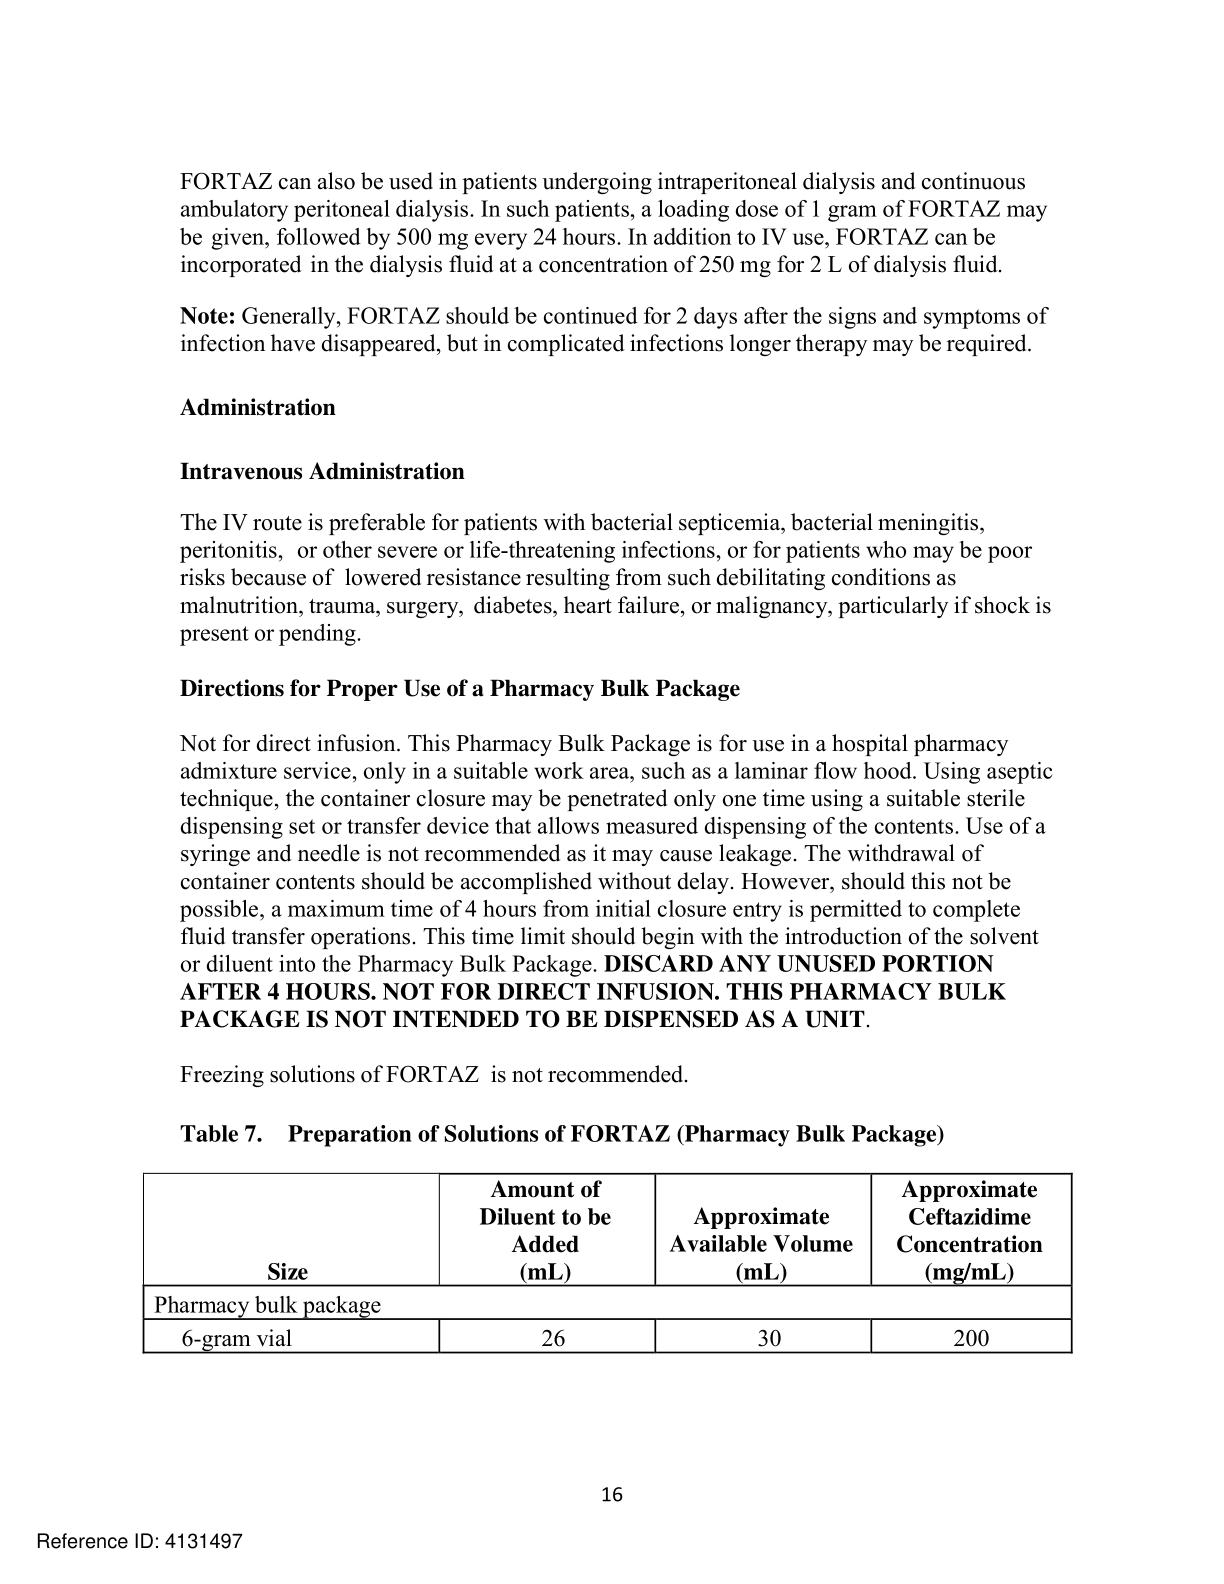merged_cells: (141, 1171, 1074, 1355)
